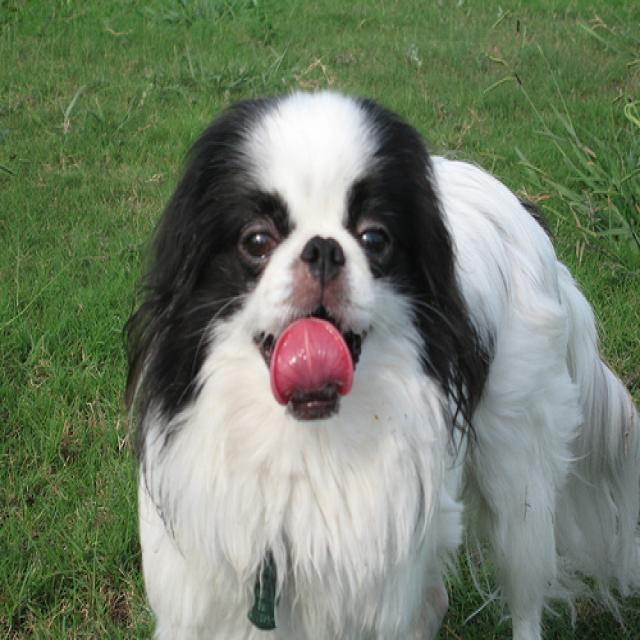dog-japanese_chin: (111, 73, 637, 637)
